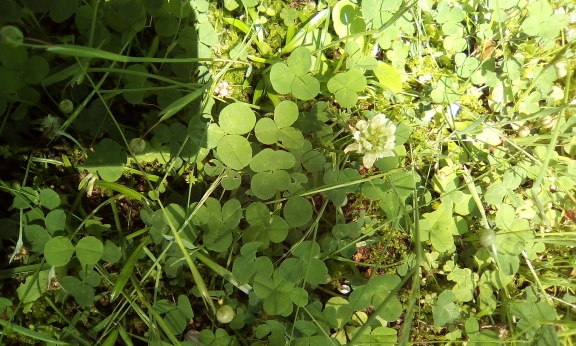4leaf: (249, 148, 297, 200)
